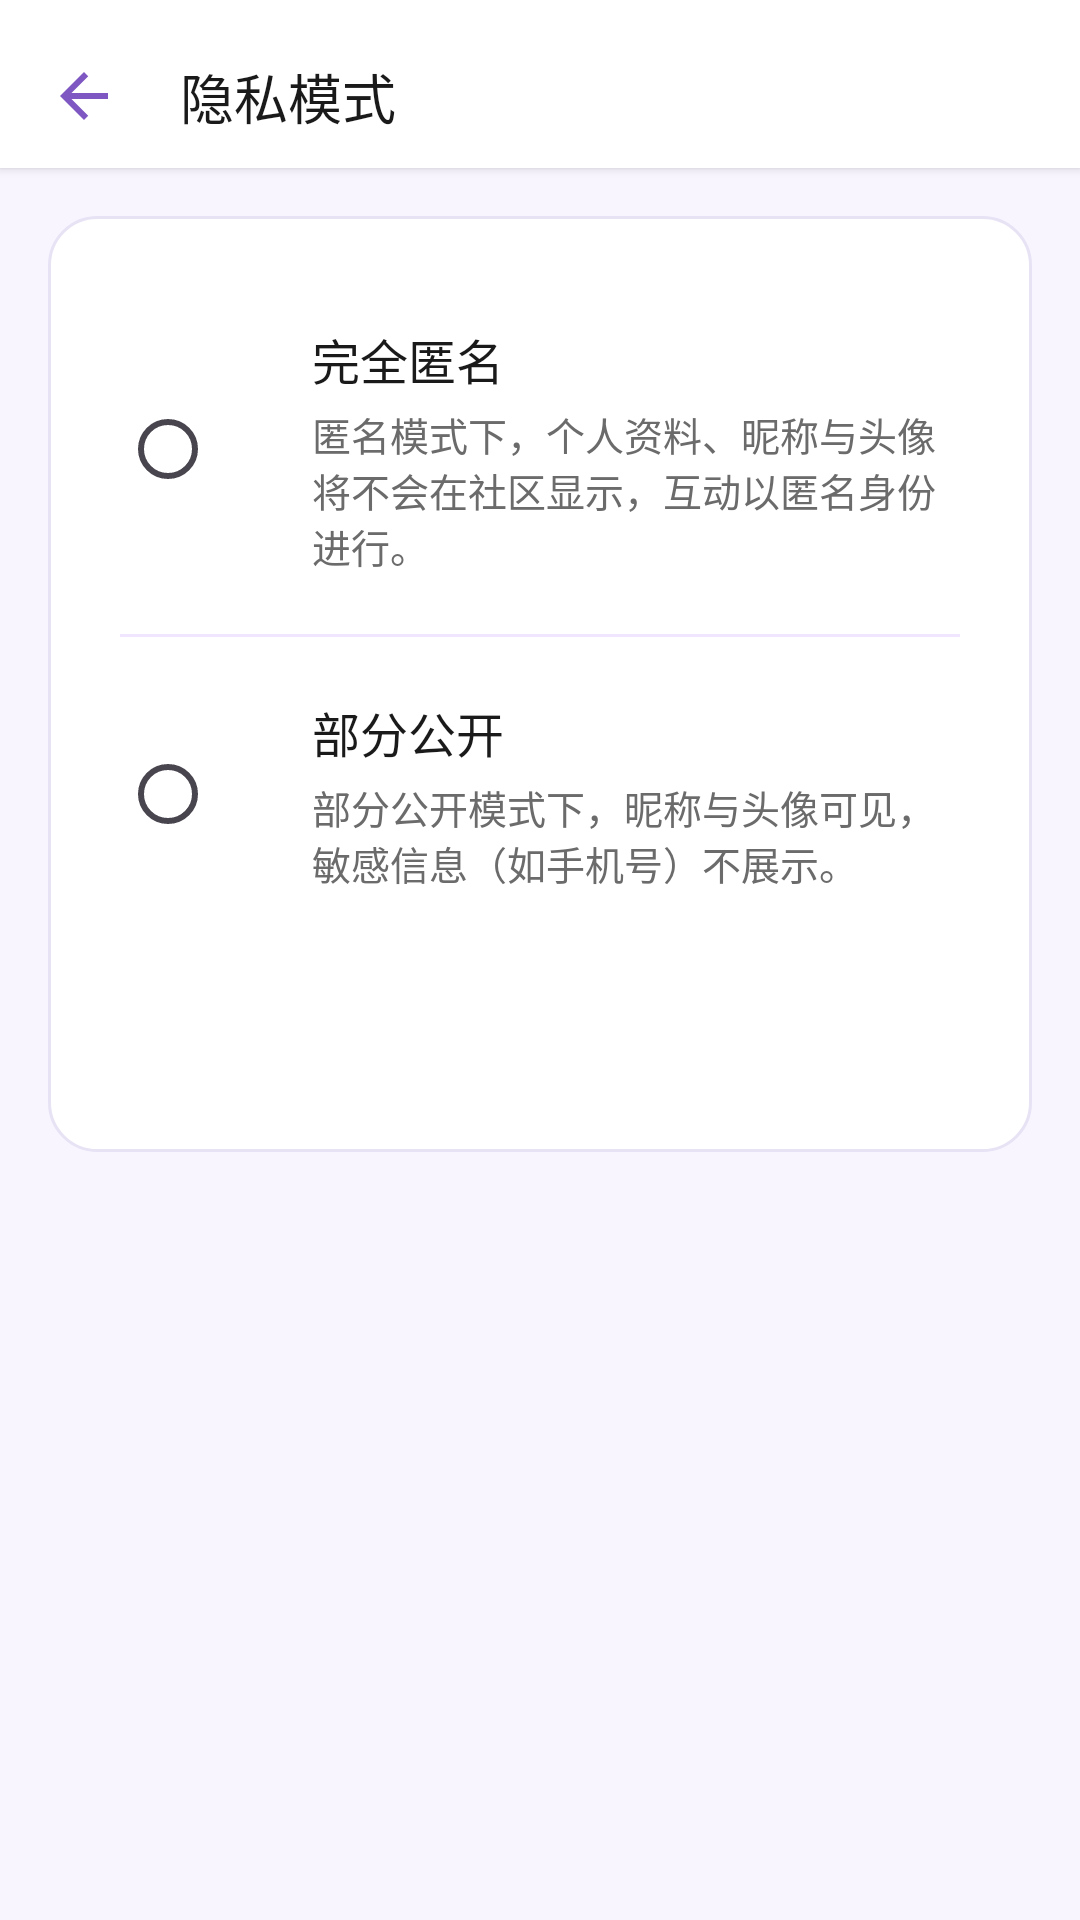

Icon click points for this 1080x1920 phone screenshot, format (x,y):
返回: (84,96)
